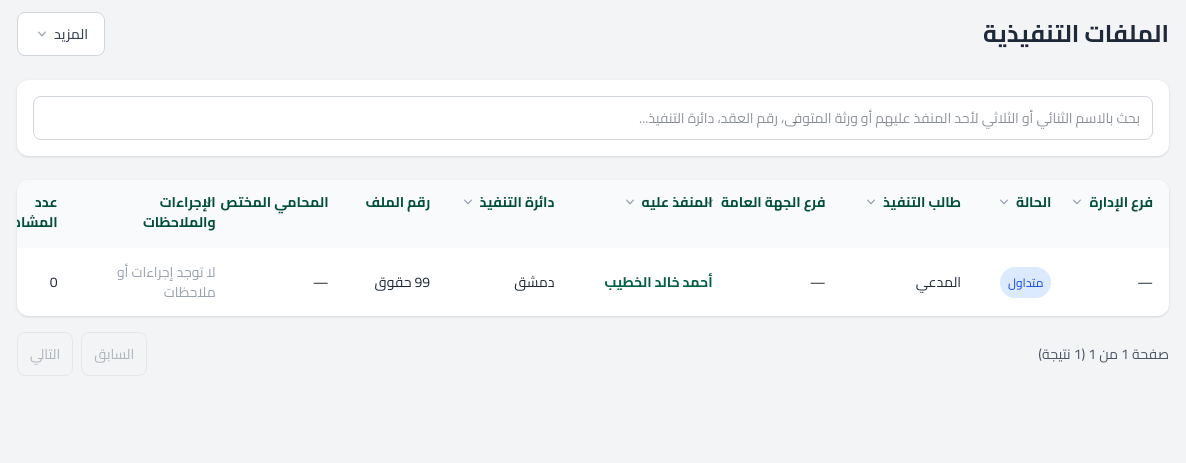
Test case: DocumentsList › يعرض رسالة ولا يرسل طلب تصدير عند النقر دون تطبيق أي فلتر
Expected: the table is shown, [17, 180, 1169, 316]
Click the button "المزيد" at (61, 34), box [17, 12, 105, 56]
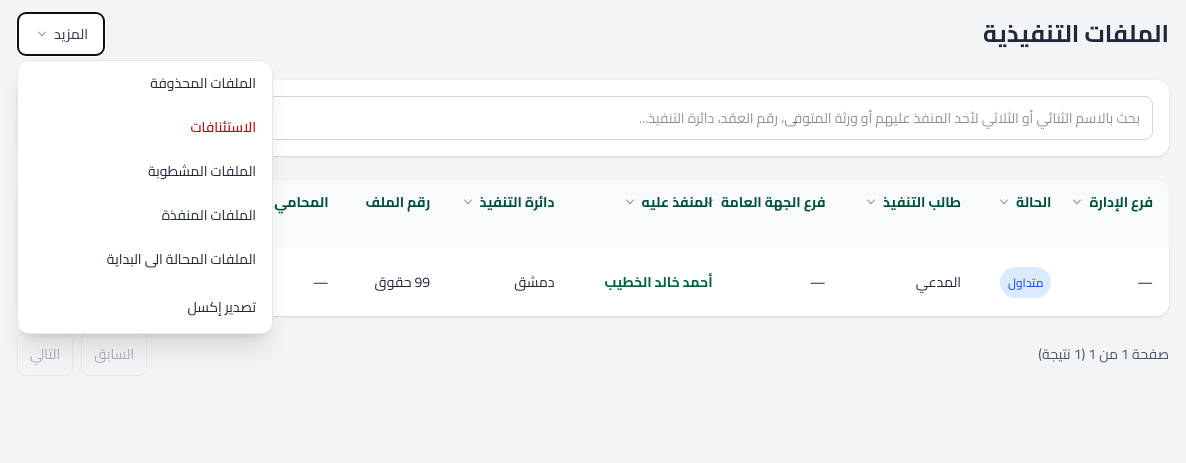
Expected: the menu item "تصدير إكسل" is enabled
Click the menu item "تصدير إكسل" at (145, 307), box [18, 285, 272, 329]
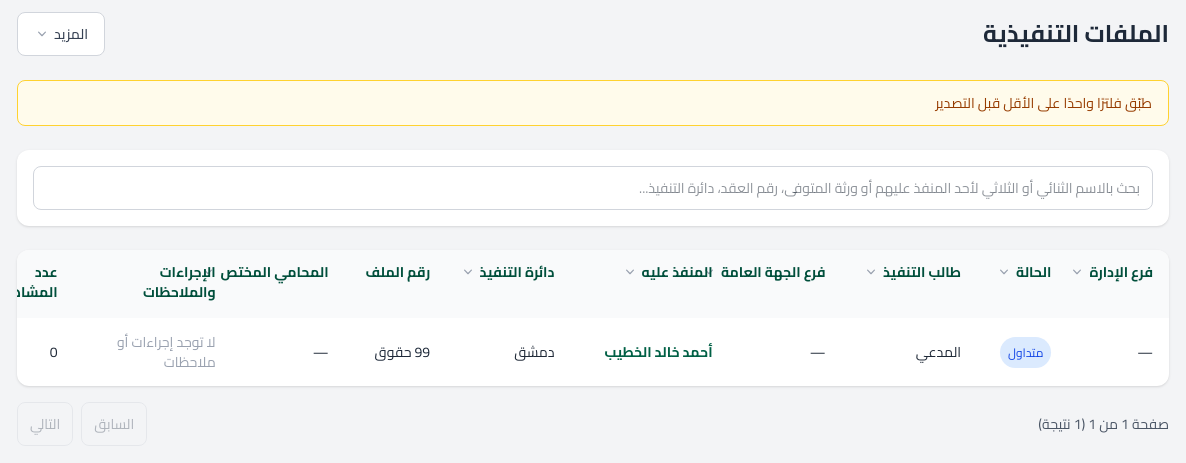
Expected: the message reads "طبّق فلترًا واحدًا على الأقل قبل التصدير", [936, 90, 1152, 116]
